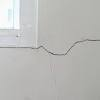crack: (35, 36, 99, 56)
